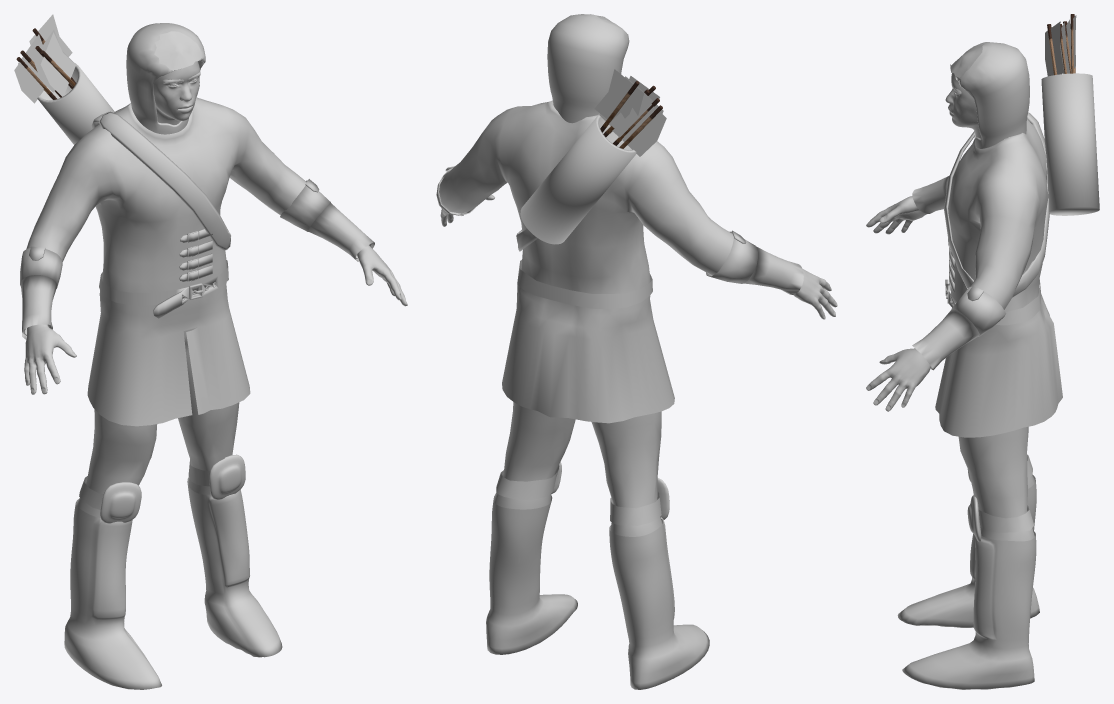
File: Archer_Human.fbx
The picture shows the model from 3 angles, left to right: view 1: azimuth 30°, elevation 25°; view 2: azimuth 150°, elevation 25°; view 3: azimuth 270°, elevation 25°; orthographic projection. The views are drawn at different scales.
Parts seen in each view (by area): view 1: male_casualsuit02Mesh, qqMesh, Cylinder, Fur.003, Fur.001; view 2: male_casualsuit02Mesh, Cylinder, Fur.005, Fur.004, qqMesh; view 3: male_casualsuit02Mesh, Cylinder, qqMesh, Fur.003.
Part boxes in pixels (bbox=[...]): male_casualsuit02Mesh: bbox=[20, 23, 374, 689]; qqMesh: bbox=[24, 61, 407, 394]; Cylinder: bbox=[37, 63, 114, 144]; Fur.003: bbox=[40, 32, 75, 96]; Fur.001: bbox=[18, 34, 61, 97]; male_casualsuit02Mesh: bbox=[436, 14, 803, 689]; Cylinder: bbox=[520, 114, 636, 244]; Fur.005: bbox=[612, 96, 666, 156]; Fur.004: bbox=[594, 69, 643, 132]; qqMesh: bbox=[440, 194, 837, 319]; male_casualsuit02Mesh: bbox=[897, 42, 1062, 689]; Cylinder: bbox=[1041, 73, 1099, 215]; qqMesh: bbox=[866, 73, 1009, 411]; Fur.003: bbox=[1045, 21, 1063, 76].
Bounding box in the file's own units: 122 × 193 × 67.71.
